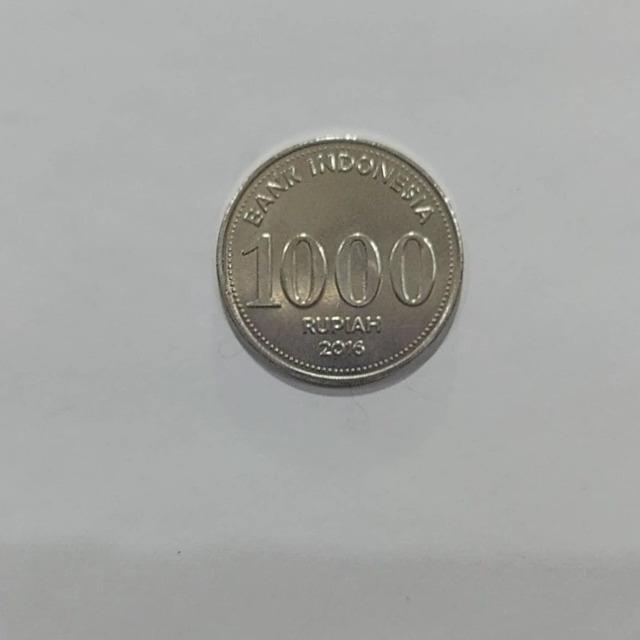Rp100: (214, 134, 465, 393)
